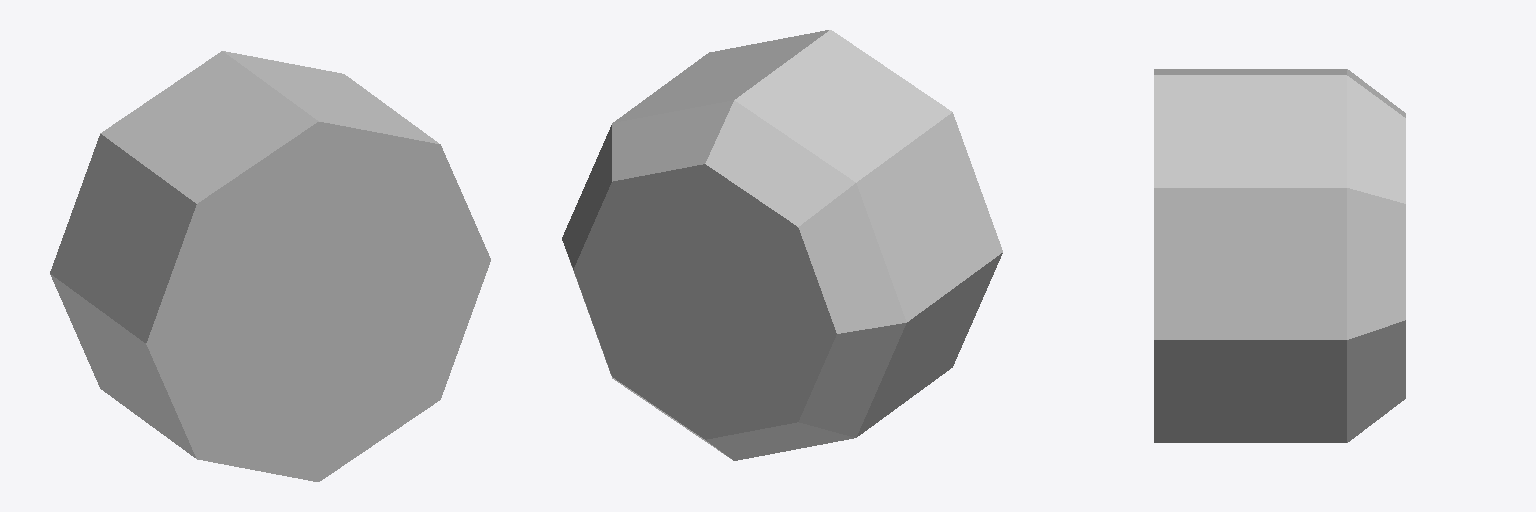
File: Muzzle.obj
The picture shows the model from 3 angles: view 1: azimuth 30°, elevation 25°; view 2: azimuth 150°, elevation 25°; view 3: azimuth 270°, elevation 25°; orthographic projection.
Parts seen in each view (by area): view 1: Cylinder.004; view 2: Cylinder.004; view 3: Cylinder.004.
Boxes of the visible parts, box(x1,y1,x2,y2) form: Cylinder.004: box(50, 51, 490, 481); Cylinder.004: box(562, 30, 1002, 460); Cylinder.004: box(1154, 69, 1405, 442).
Size of the model in its own units: 0.1128 by 0.1128 by 0.0712.